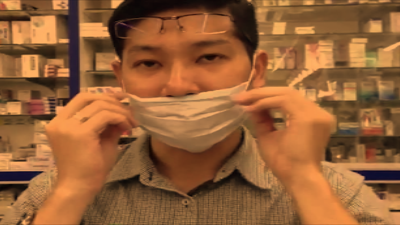mask_weared_incorrect: (117, 37, 252, 154)
